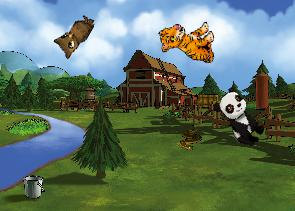owl: (49, 7, 96, 61)
panda: (209, 85, 271, 151)
tiger: (157, 16, 219, 71)
